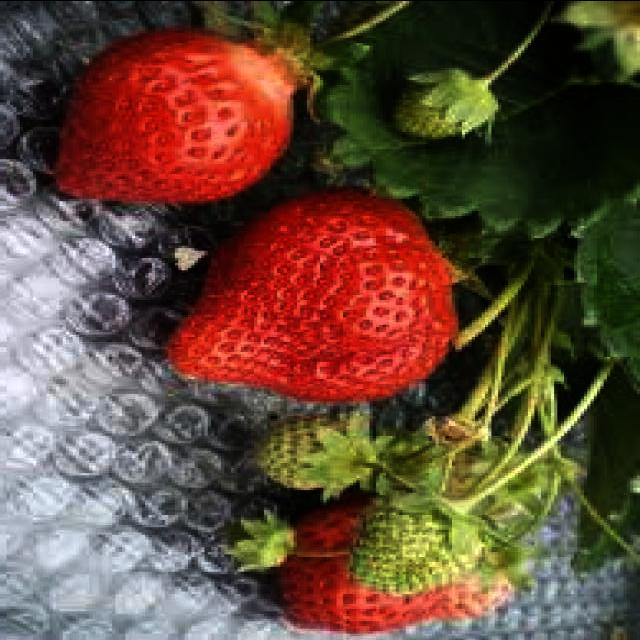ripe: (158, 186, 466, 404), (42, 20, 306, 213), (268, 508, 502, 634)
unripe: (333, 493, 489, 598), (242, 409, 392, 501), (388, 54, 502, 148)
